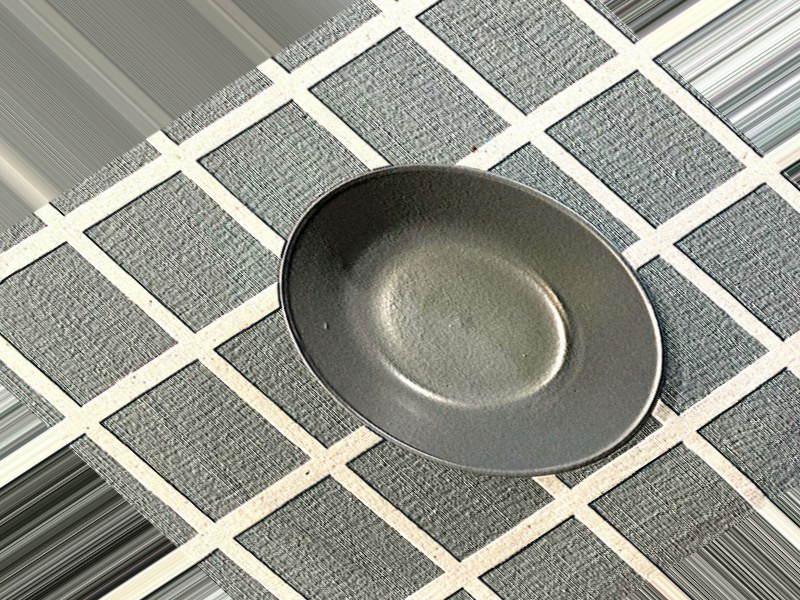bowl_big: (188, 87, 774, 552)
